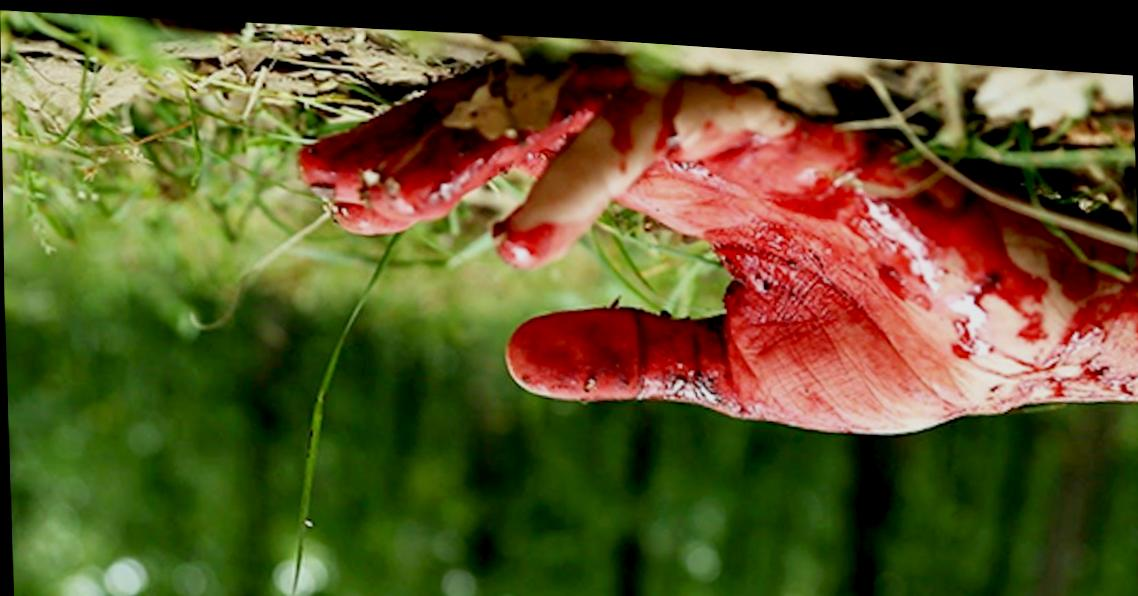Fire: (299, 48, 1138, 421)
